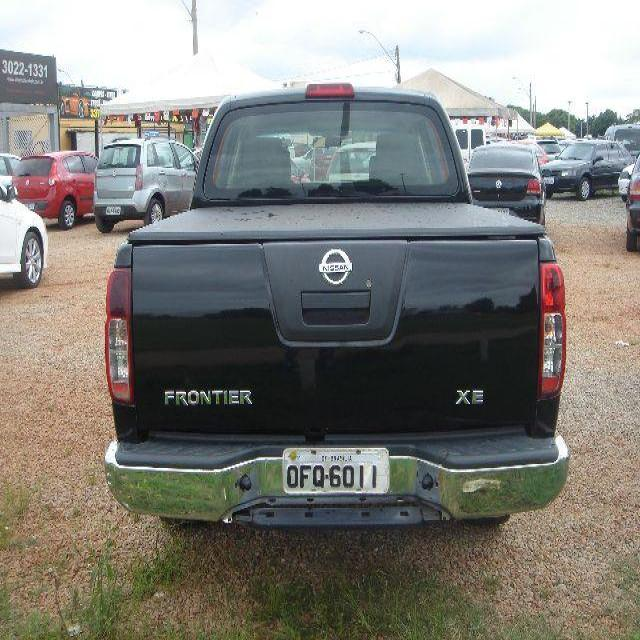Placa: (281, 443, 390, 499)
